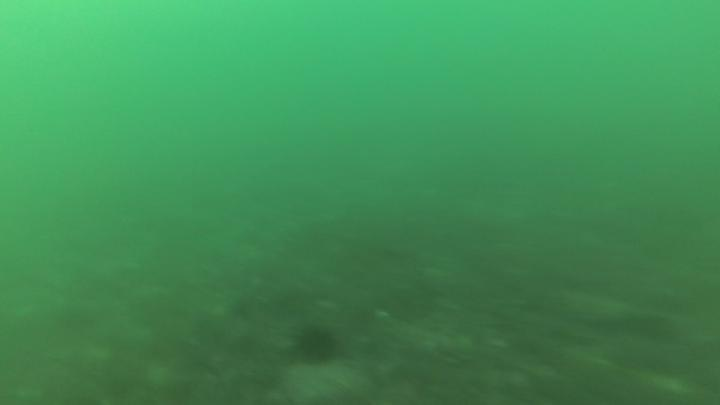echinus: (291, 323, 344, 370)
